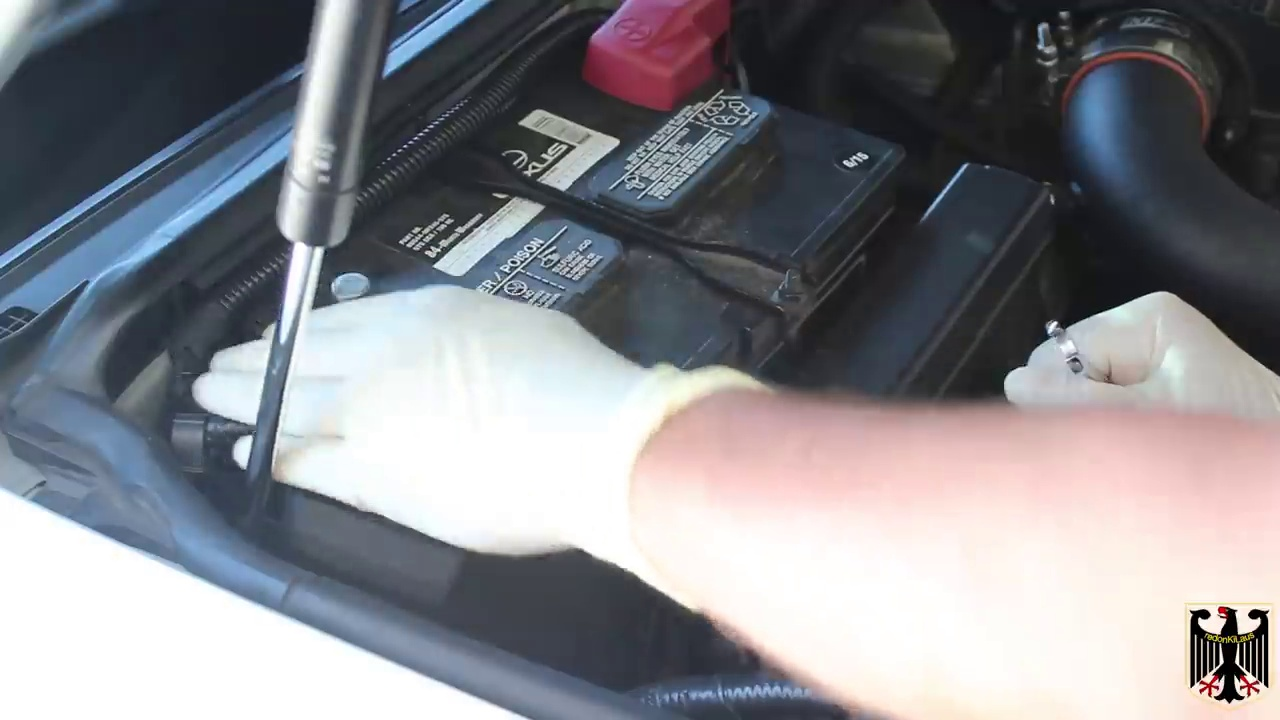battery: (263, 45, 905, 410)
neg_disconnected: (246, 218, 415, 340)
neg_touched: (246, 240, 408, 473)
pos_connected: (553, 1, 767, 110)
